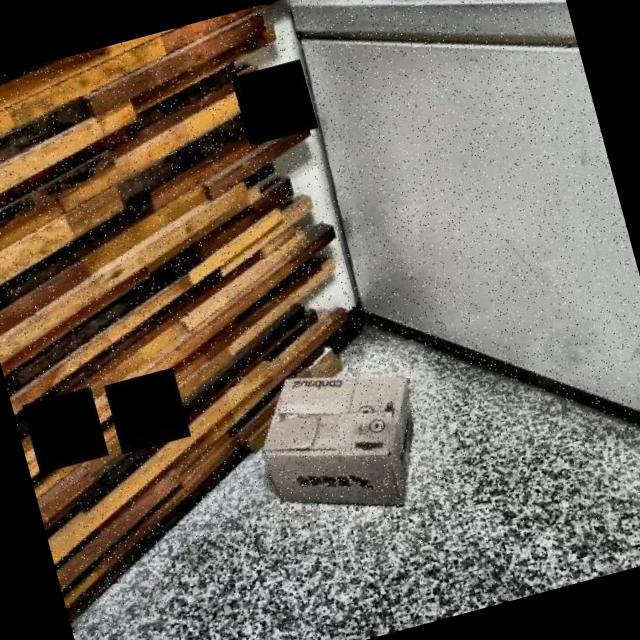box: (226, 336, 463, 546)
